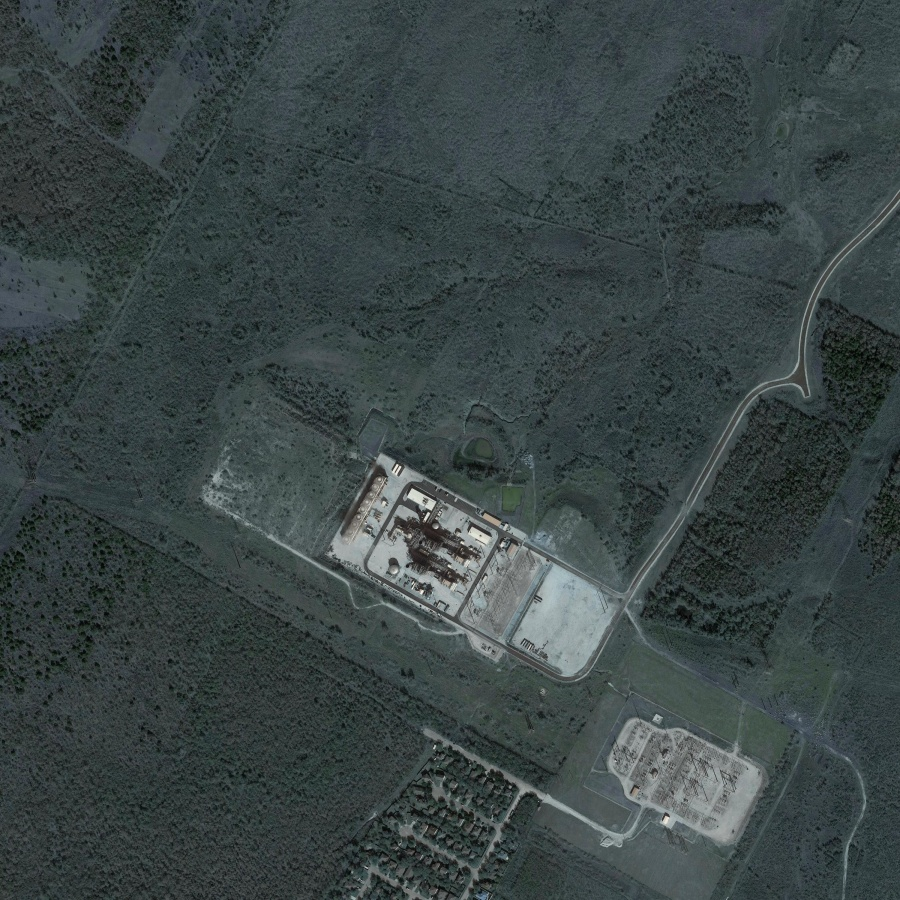PowerPlant: (331, 456, 541, 646), (605, 702, 752, 838)
